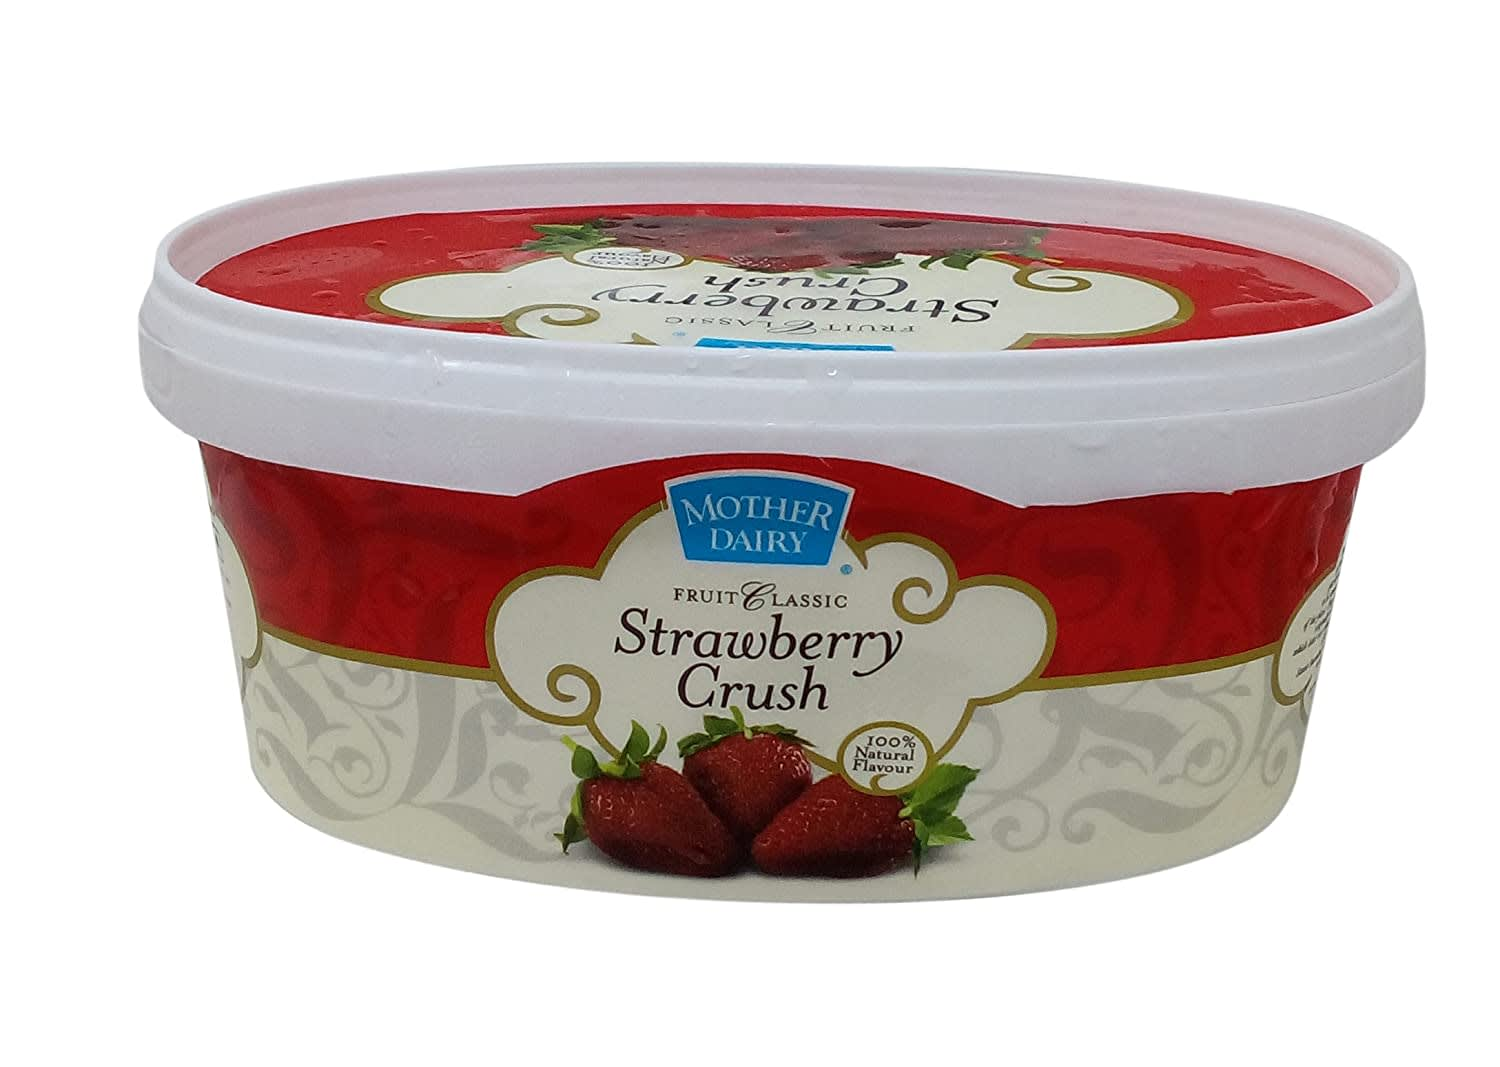Mother_Dairy: (649, 467, 855, 575)
